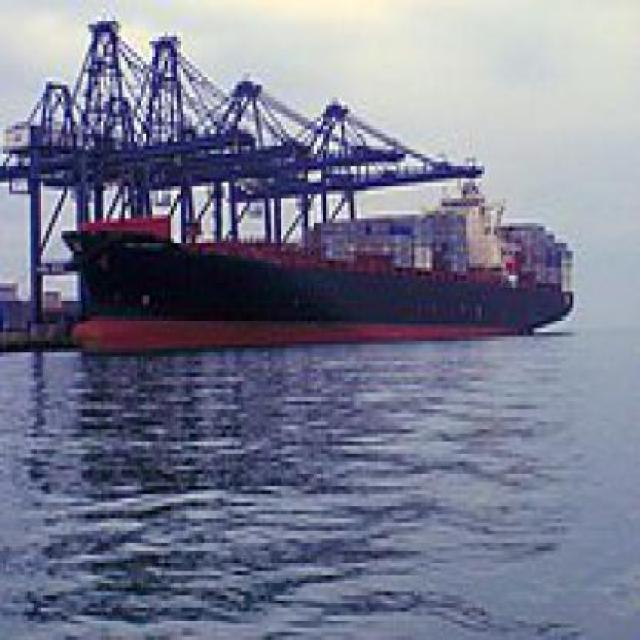container: (50, 167, 581, 346)
